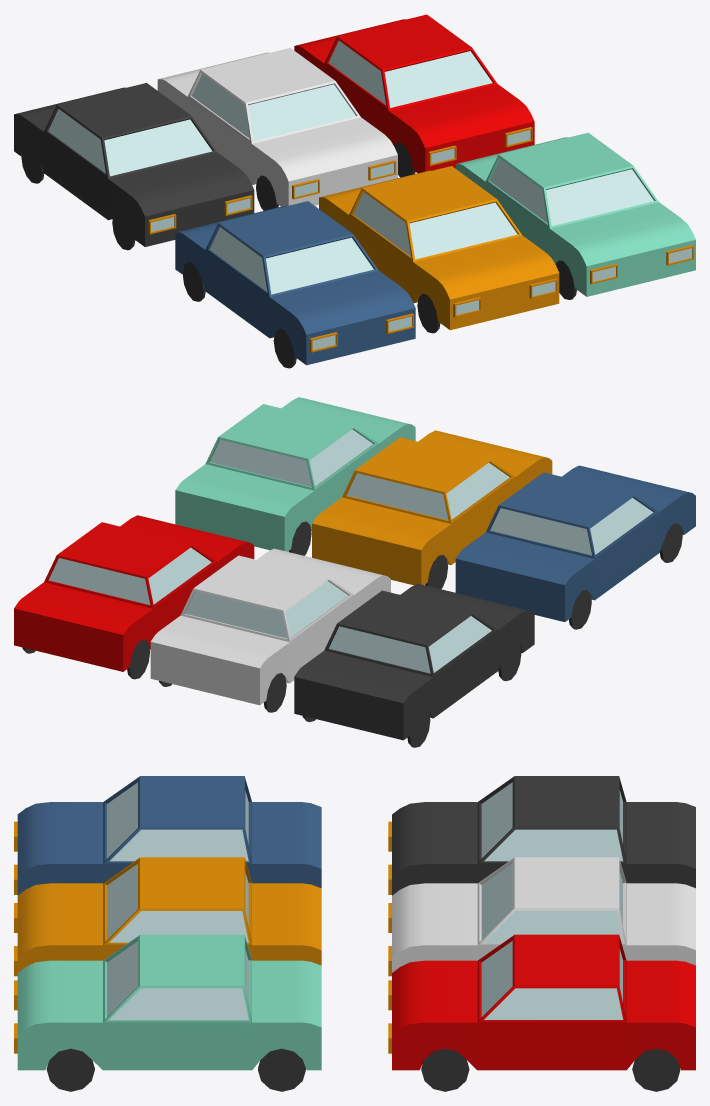
The model's file is Carros.fbx.
The picture shows the model from 3 angles, top to bottom: view 1: azimuth 30°, elevation 25°; view 2: azimuth 150°, elevation 25°; view 3: azimuth 270°, elevation 25°; orthographic projection. The views are drawn at different scales.
Visible parts, largest first — view 1: polySurface42, polySurface36, polySurface37, polySurface27, polySurface47, polySurface22, polySurface44, polySurface34, polySurface43, polySurface33, polySurface38, polySurface28; view 2: polySurface36, polySurface42, polySurface27, polySurface37, polySurface22, polySurface47, polySurface29, polySurface24, polySurface34, polySurface33, polySurface43, polySurface44 (+1 smaller); view 3: polySurface47, polySurface22, polySurface42, polySurface36, polySurface37, polySurface27, polySurface23, polySurface24, polySurface48, polySurface49.
Boxes of the visible parts, box(x1,y1,x2,y2) form: polySurface42: box(175, 201, 415, 365); polySurface36: box(14, 83, 254, 246); polySurface37: box(319, 166, 559, 330); polySurface27: box(157, 48, 397, 206); polySurface47: box(455, 132, 695, 296); polySurface22: box(294, 14, 534, 173); polySurface44: box(182, 262, 205, 301); polySurface34: box(21, 144, 44, 183); polySurface43: box(273, 328, 296, 368); polySurface33: box(112, 210, 135, 250); polySurface38: box(417, 293, 440, 333); polySurface28: box(256, 175, 278, 210); polySurface36: box(294, 583, 534, 740); polySurface42: box(455, 465, 695, 621); polySurface27: box(150, 548, 390, 705); polySurface37: box(312, 430, 552, 585); polySurface22: box(14, 515, 254, 671); polySurface47: box(175, 397, 415, 551); polySurface29: box(159, 673, 286, 712); polySurface24: box(22, 639, 149, 679); polySurface34: box(302, 708, 430, 747); polySurface33: box(498, 641, 521, 681); polySurface43: box(659, 523, 682, 562); polySurface44: box(569, 590, 591, 629); polySurface47: box(14, 934, 321, 1070); polySurface22: box(388, 934, 695, 1070); polySurface42: box(14, 776, 321, 895); polySurface36: box(388, 776, 695, 895); polySurface37: box(14, 857, 321, 976); polySurface27: box(388, 857, 695, 976); polySurface23: box(421, 1048, 469, 1091); polySurface24: box(632, 1048, 680, 1091); polySurface48: box(46, 1048, 94, 1091); polySurface49: box(258, 1048, 305, 1091).
Bounding box in the file's own units: 11.55 × 2.47 × 15.1.
